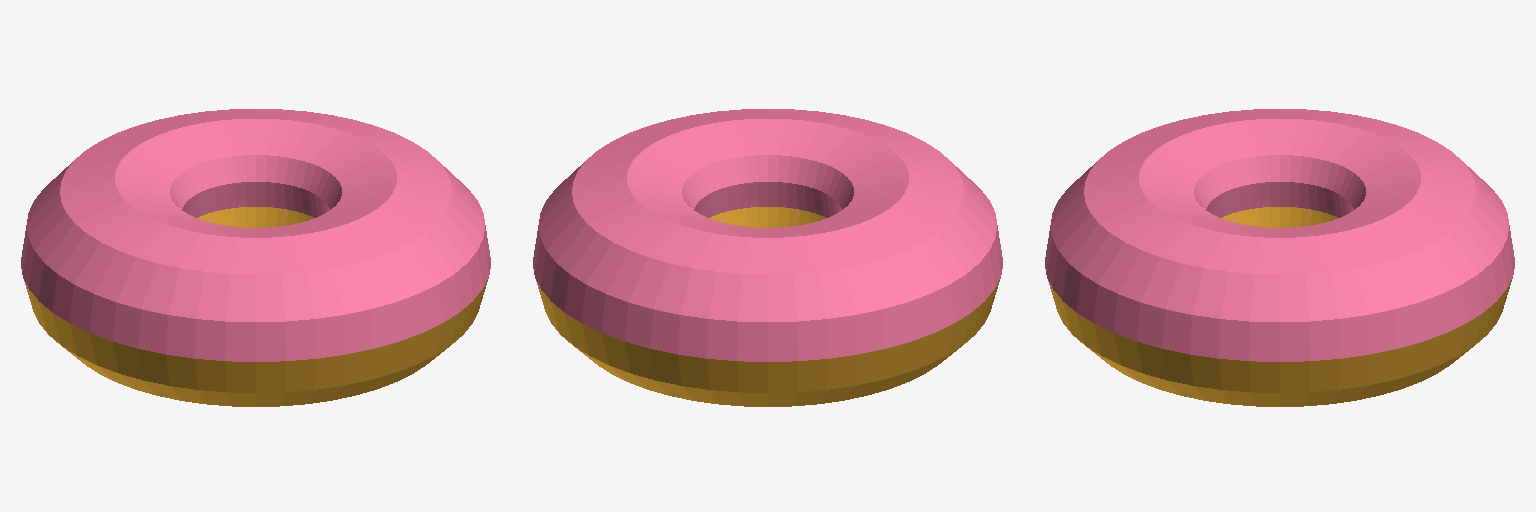
The picture shows the model from 3 angles: view 1: azimuth 30°, elevation 25°; view 2: azimuth 150°, elevation 25°; view 3: azimuth 270°, elevation 25°; orthographic projection.
Visible parts, largest first — view 1: Donut; view 2: Donut; view 3: Donut.
Boxes of the visible parts, x1,y1,x2,y2 form: Donut: [21, 109, 490, 406]; Donut: [533, 109, 1002, 406]; Donut: [1045, 109, 1514, 406].
Bounding box in the file's own units: 1.5 × 0.5469 × 1.5.
Materials: 1 (1 with a texture image).